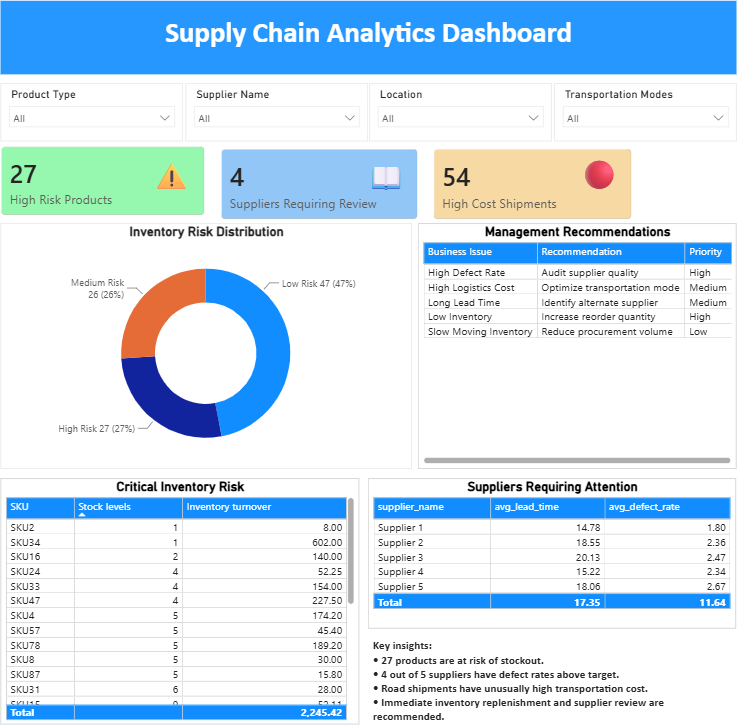

Layout of this report page (visuals, bound fields, positions):
{"tool":"powerbi","page":{"name":"Recommendation ","canvas":[969,952],"ordinal":2},"visuals":[{"type":"textbox","box":[9.9,11.2,952.2,95.5],"z":0,"group":"g1"},{"type":"cardVisual","fields":{"Data":["MeasuresTable.High Risk Products"]},"box":[1.2,190.9,281.4,107.9],"z":0},{"type":"cardVisual","fields":{"Data":["MeasuresTable.Suppliers Needing Review"]},"box":[285.5,193.5,273,109.8],"z":1000},{"type":"cardVisual","fields":{"Data":["MeasuresTable.High Cost Routes"]},"box":[561.6,193.5,274,109.8],"z":2000},{"type":"tableEx","title":"Critical Inventory Risk","fields":{"Values":["supplychain vw_inventory_health.sku","supplychain vw_inventory_health.stock_levels","Sum(supplychain vw_inventory_health.inventory_turnover)"]},"box":[9.9,628.6,463.7,318.6],"z":3000},{"type":"textbox","box":[473.3,205.8,68.6,60.4],"z":4000},{"type":"slicer","fields":{"Values":["supplychain supply_chain.product_type"]},"box":[9.6,118,236,75.5],"z":5000},{"type":"slicer","fields":{"Values":["supplychain supply_chain.supplier_name"]},"box":[248.4,118,236,75.5],"z":6000},{"type":"slicer","fields":{"Values":["supplychain supply_chain.location"]},"box":[487.3,118,236,75.5],"z":7000},{"type":"slicer","fields":{"Values":["supplychain supply_chain.transportation_modes"]},"box":[726.1,118,236,75.5],"z":8000},{"type":"textbox","box":[196.6,205.8,68,60.7],"z":9000},{"type":"textbox","box":[750.7,205.8,68.6,60.4],"z":10000},{"type":"donutChart","title":"Inventory Risk Distribution","fields":{"Category":["supplychain vw_inventory_health.Risk Category"],"Y":["Count(supplychain vw_inventory_health.sku)"]},"box":[9.6,299.5,531.7,317.7],"z":11000},{"type":"group","id":"g1","title":"Group 1","box":[9.9,11.2,952.2,95.5],"z":12000},{"type":"tableEx","title":"Suppliers Requiring Attention","fields":{"Values":["supplychain vw_supplier_performance.supplier_name","Avg(supplychain vw_supplier_performance.avg_lead_time)","Sum(supplychain vw_supplier_performance.avg_defect_rate)"]},"box":[485.7,629,476,194.7],"z":13000},{"type":"tableEx","title":"Management Recommendations","fields":{"Values":["RecommendationsTbl.Business Issue","RecommendationsTbl.Recommendation","RecommendationsTbl.Priority"]},"box":[549.9,299.5,411.9,317.7],"z":14000},{"type":"textbox","box":[486.7,831.2,475,120.9],"z":15000}]}

Visuals, with their boxes in screenshot pixels (x1, y1, x2, y2), scaled from the page's 969x952 canvas onto the 742x727 screenshot:
textbox: bbox=[8, 9, 737, 81]
cardVisual - MeasuresTable.High Risk Products: bbox=[1, 146, 216, 228]
cardVisual - MeasuresTable.Suppliers Needing Review: bbox=[219, 148, 428, 232]
cardVisual - MeasuresTable.High Cost Routes: bbox=[430, 148, 640, 232]
"Critical Inventory Risk" tableEx: bbox=[8, 480, 363, 723]
textbox: bbox=[362, 157, 415, 203]
slicer - supplychain supply_chain.product_type: bbox=[7, 90, 188, 148]
slicer - supplychain supply_chain.supplier_name: bbox=[190, 90, 371, 148]
slicer - supplychain supply_chain.location: bbox=[373, 90, 554, 148]
slicer - supplychain supply_chain.transportation_modes: bbox=[556, 90, 737, 148]
textbox: bbox=[151, 157, 203, 204]
textbox: bbox=[575, 157, 627, 203]
"Inventory Risk Distribution" donutChart: bbox=[7, 229, 414, 471]
"Group 1" group: bbox=[8, 9, 737, 81]
"Suppliers Requiring Attention" tableEx: bbox=[372, 480, 736, 629]
"Management Recommendations" tableEx: bbox=[421, 229, 736, 471]
textbox: bbox=[373, 635, 736, 726]
